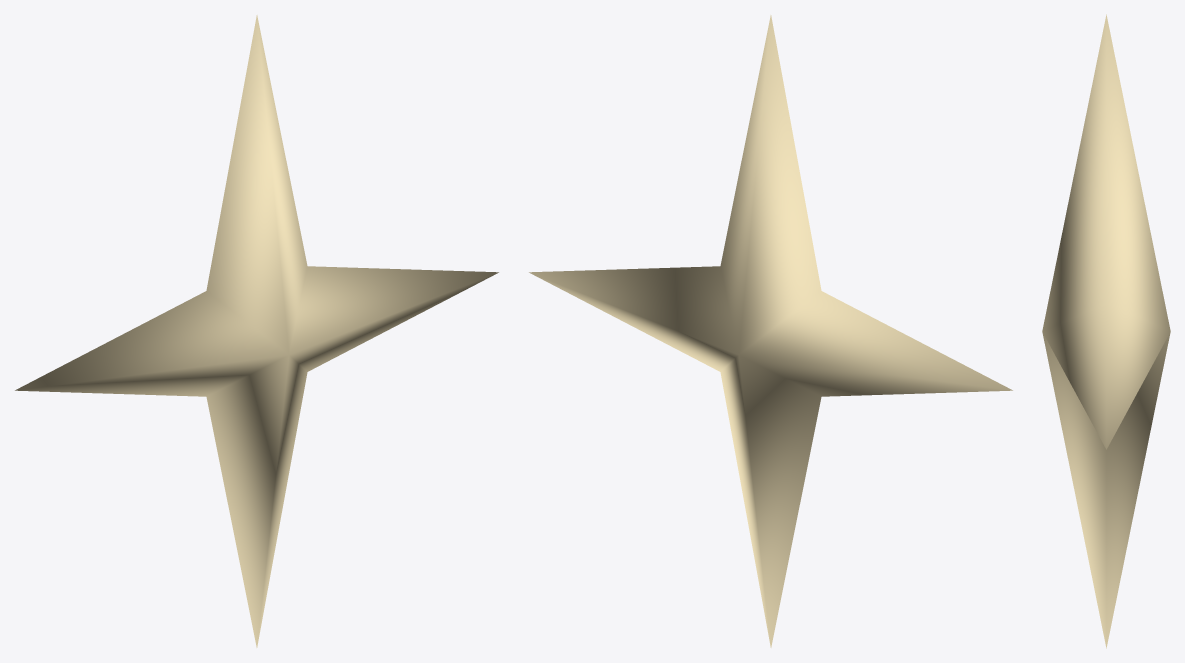
File: gold-sparkle.glb
3 views of the same model, side by side, from view 1: azimuth 30°, elevation 25°; view 2: azimuth 150°, elevation 25°; view 3: azimuth 270°, elevation 25° (orthographic).
Visible parts, largest first — view 1: star-0; view 2: star-0; view 3: star-0.
Part boxes in pixels (box(x1,y1,x2,y2)): star-0: box(15, 15, 498, 647); star-0: box(529, 15, 1012, 647); star-0: box(1042, 14, 1170, 648).
Size of the model in its own units: 0.96 by 1.2 by 0.22.
